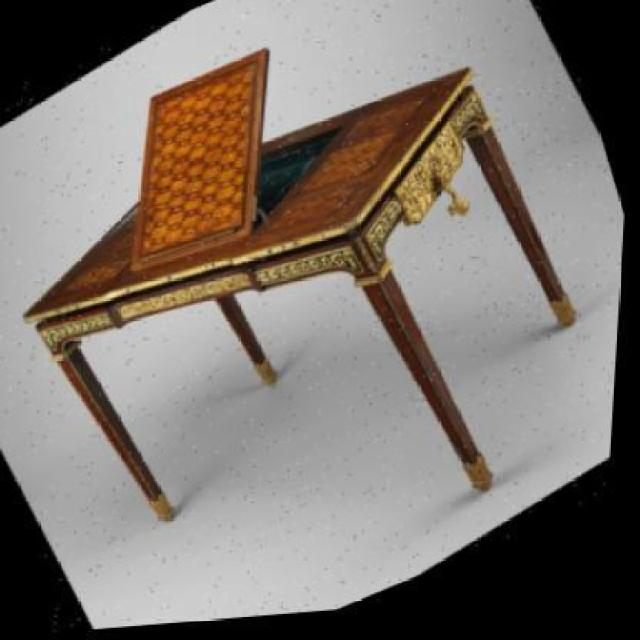tables: (21, 61, 577, 522)
